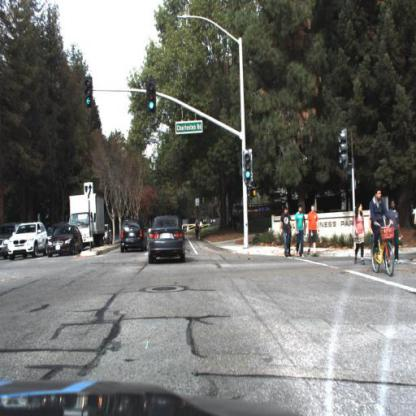biker: (369, 189, 396, 279)
car: (148, 215, 186, 265), (7, 221, 49, 261), (48, 224, 83, 258), (121, 218, 148, 254), (105, 228, 113, 246)
pedestrian: (386, 200, 404, 268), (354, 200, 367, 264), (307, 203, 320, 258), (282, 209, 293, 259), (296, 205, 306, 258), (194, 212, 204, 244), (195, 217, 202, 240), (236, 213, 242, 234)
trafficLight: (83, 74, 95, 112), (146, 79, 158, 115), (244, 149, 254, 185)
trafficLight-Green: (147, 80, 157, 116)
trafficLight-GreenLeft: (83, 75, 93, 109)
truck: (71, 194, 107, 245)
